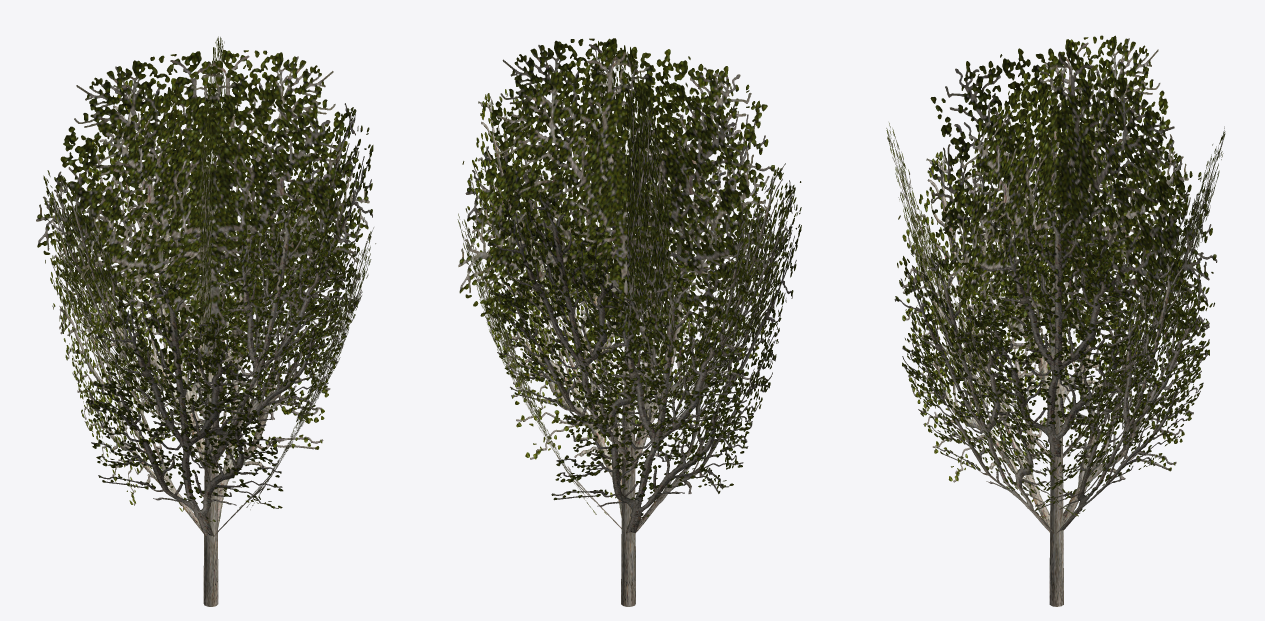
The model's file is Sharp_Poplar10.gltf.
The picture shows the model from 3 angles, left to right: view 1: azimuth 30°, elevation 25°; view 2: azimuth 150°, elevation 25°; view 3: azimuth 270°, elevation 25°; orthographic projection. The views are drawn at different scales.
Visible parts, largest first — view 1: c, b, a, trunk; view 2: c, b, a, trunk; view 3: c, a, b, trunk.
Boxes of the visible parts, box(x1,y1,x2,y2) form: c: box(36, 36, 369, 388); b: box(43, 80, 373, 469); a: box(45, 146, 375, 536); trunk: box(203, 341, 218, 606); c: box(458, 38, 769, 382); b: box(462, 67, 801, 464); a: box(457, 134, 801, 533); trunk: box(621, 371, 635, 606); c: box(929, 35, 1209, 384); a: box(894, 150, 1217, 532); b: box(886, 58, 1225, 459); trunk: box(1049, 379, 1063, 606).
Bounding box in the file's own units: 8.66 × 13.76 × 8.66.
2 materials, 2 textured.
